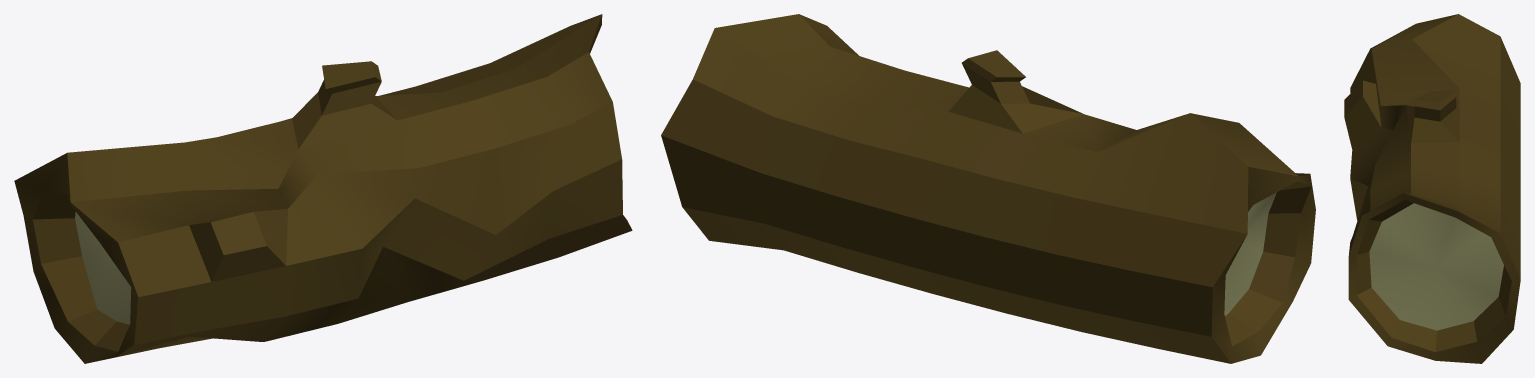
Rendered from log.fbx.
3 views of the same model, side by side, from view 1: azimuth 30°, elevation 25°; view 2: azimuth 150°, elevation 25°; view 3: azimuth 270°, elevation 25° (orthographic). The views are drawn at different scales.
Visible parts, largest first — view 1: pCylinder1; view 2: pCylinder1; view 3: pCylinder1.
Part boxes in pixels (<box>): pCylinder1: <box>14,14,632,363</box>; pCylinder1: <box>661,14,1315,363</box>; pCylinder1: <box>1344,14,1520,363</box>.
Size of the model in its own units: 6.03 by 2.37 by 2.05.
